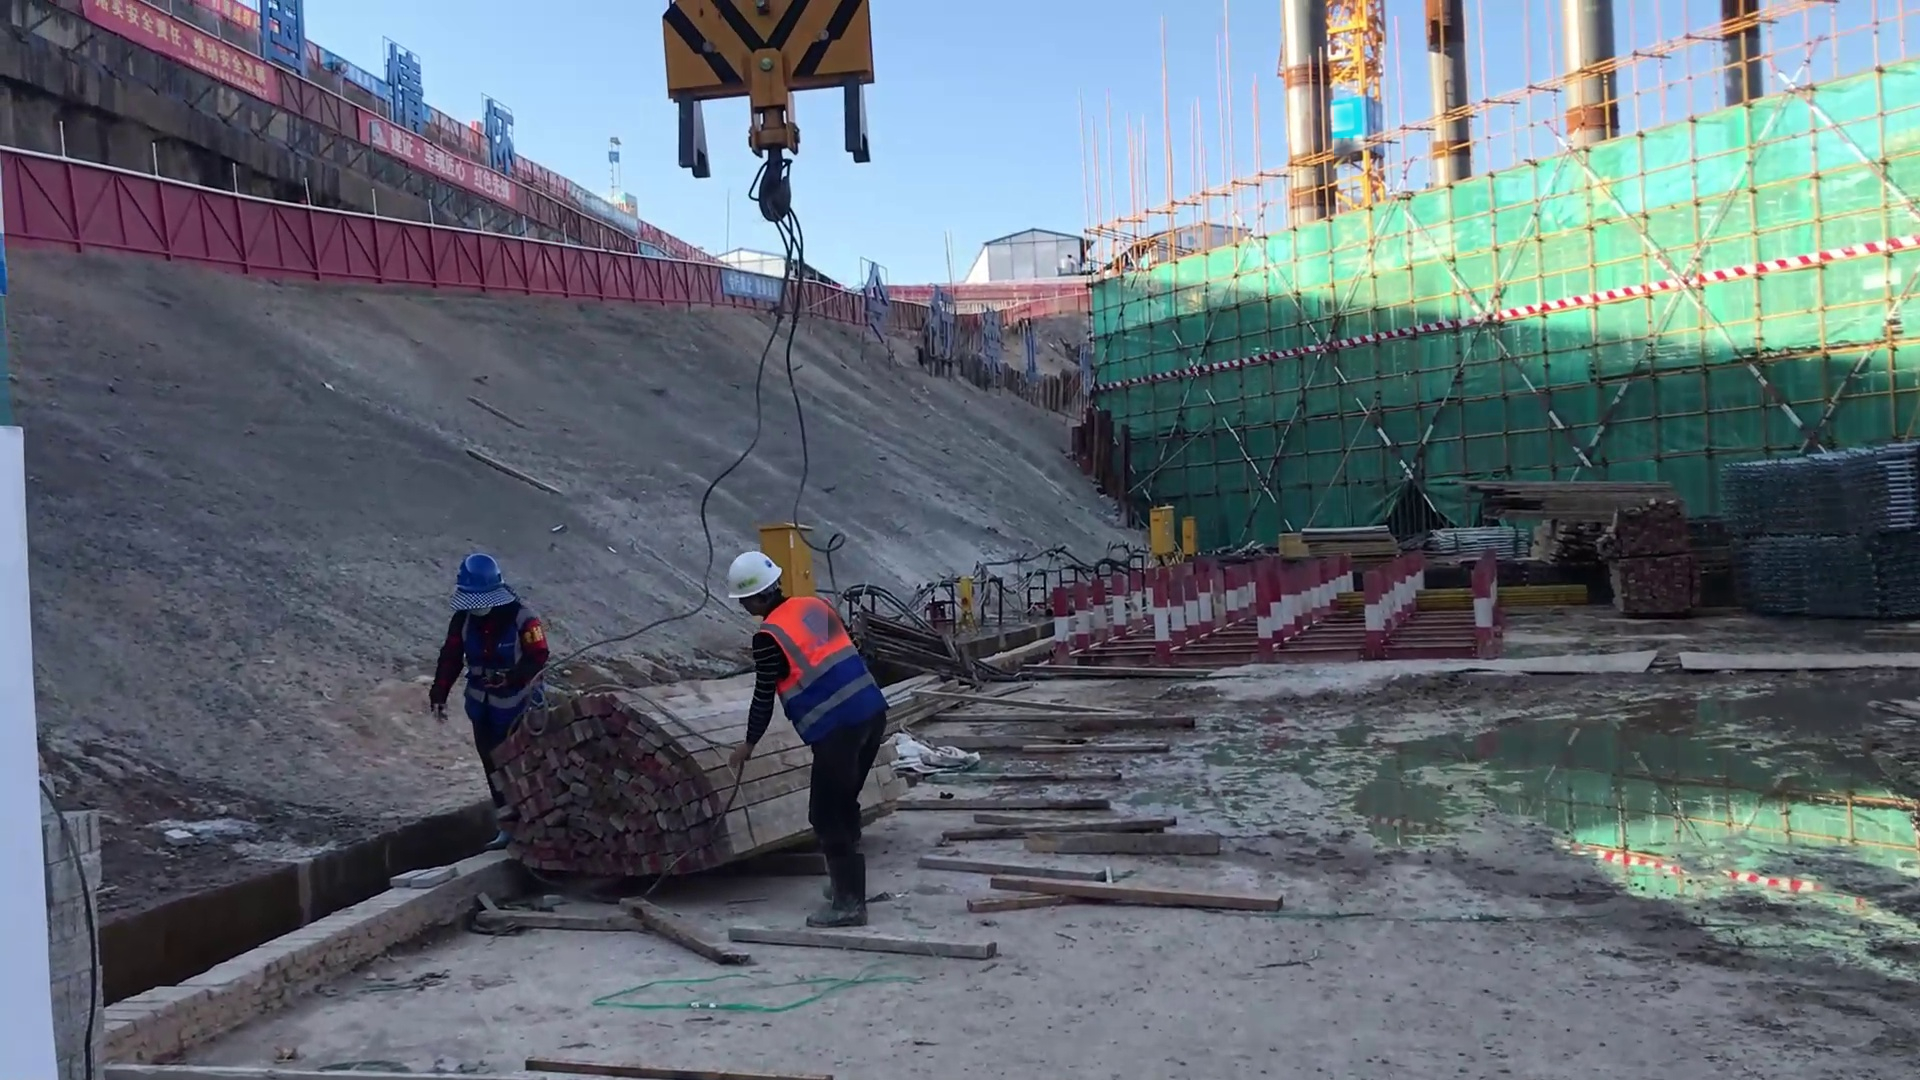ebox: (1149, 501, 1177, 555), (1177, 515, 1192, 555)
fence: (6, 146, 411, 293), (408, 220, 719, 316)
helmet: (711, 539, 774, 607), (426, 550, 496, 611)
hook: (652, 1, 895, 207)
person: (726, 548, 894, 923), (430, 545, 554, 837)
slogan: (40, 1, 274, 126)
vest: (764, 595, 857, 730), (442, 616, 548, 707)
wood: (915, 638, 1244, 971), (549, 700, 737, 894), (1452, 474, 1673, 533)
